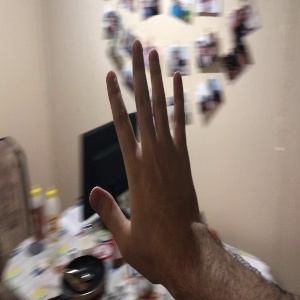hand: (90, 42, 194, 263)
